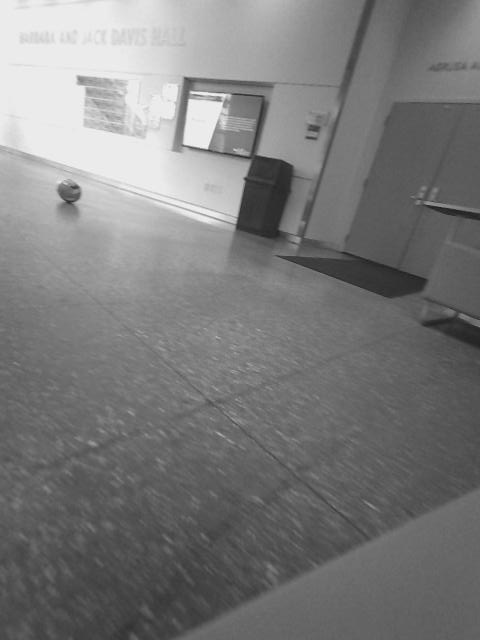ball: (55, 176, 84, 206)
